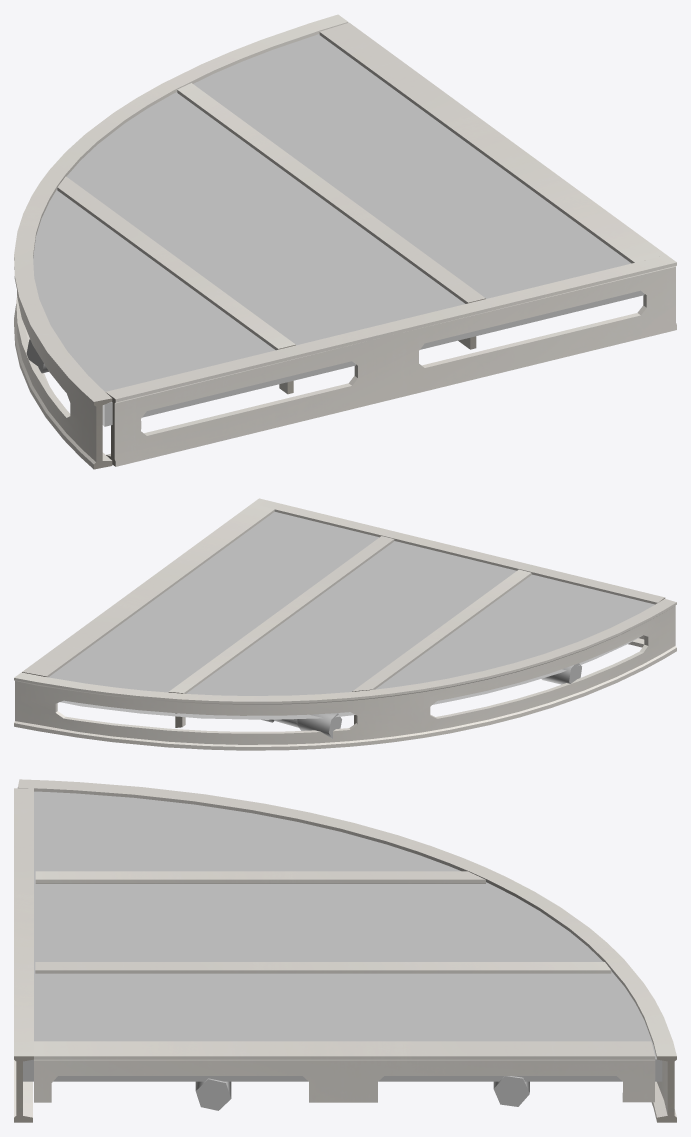
File: builderRoofCorner.fbx
3 renders of one model, top to bottom at view 1: azimuth 30°, elevation 25°; view 2: azimuth 150°, elevation 25°; view 3: azimuth 270°, elevation 25°, orthographic. The views are drawn at different scales.
Parts seen in each view (by area): view 1: builderRoofCorner_LOD0; view 2: builderRoofCorner_LOD0; view 3: builderRoofCorner_LOD0.
Boxes of the visible parts, x1=… form: builderRoofCorner_LOD0: x1=14, y1=14, x2=676, y2=469; builderRoofCorner_LOD0: x1=14, y1=498, x2=676, y2=750; builderRoofCorner_LOD0: x1=14, y1=779, x2=676, y2=1122.
Size of what is drawn, in the model's own units: 306 by 34.04 by 309.
